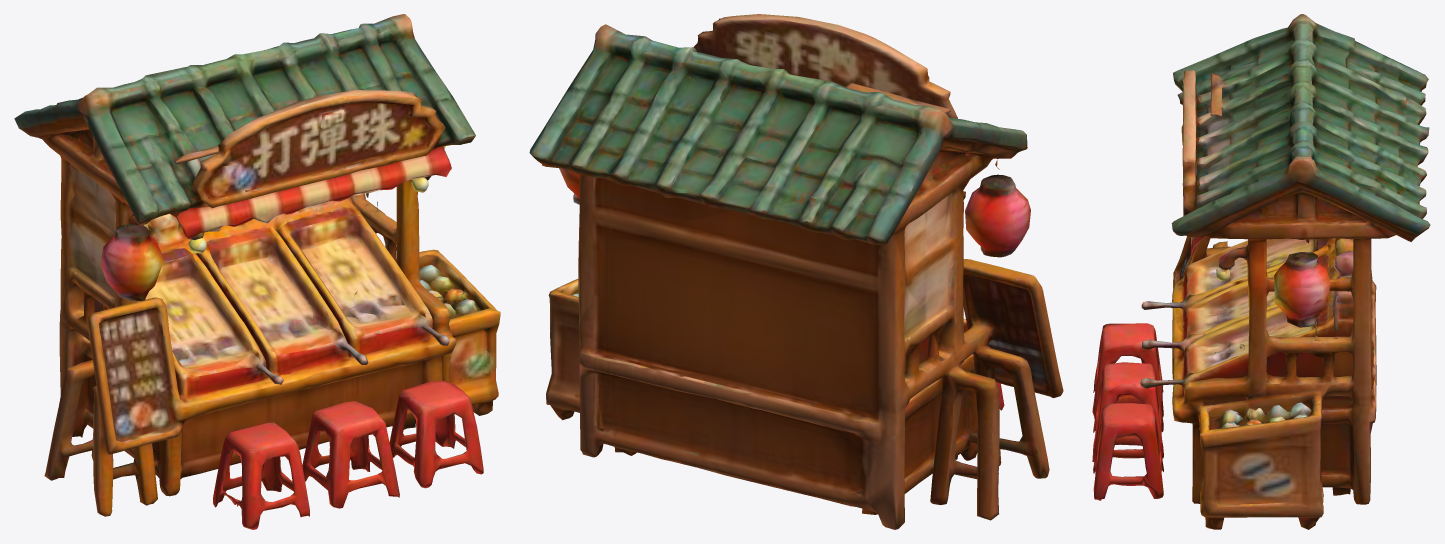
The model's file is stall-pachinko-lite.glb.
3 views of the same model, side by side, from view 1: azimuth 30°, elevation 25°; view 2: azimuth 150°, elevation 25°; view 3: azimuth 270°, elevation 25° (orthographic). The views are drawn at different scales.
Parts seen in each view (by area): view 1: tripo_node_6ee4b5d8-0822-4db2-b8ad-e27f1ab7f594; view 2: tripo_node_6ee4b5d8-0822-4db2-b8ad-e27f1ab7f594; view 3: tripo_node_6ee4b5d8-0822-4db2-b8ad-e27f1ab7f594.
Part boxes in pixels (<box>): tripo_node_6ee4b5d8-0822-4db2-b8ad-e27f1ab7f594: <box>14,14,500,529</box>; tripo_node_6ee4b5d8-0822-4db2-b8ad-e27f1ab7f594: <box>529,14,1063,529</box>; tripo_node_6ee4b5d8-0822-4db2-b8ad-e27f1ab7f594: <box>1092,14,1430,529</box>.
Size of the model in its own units: 0.9941 by 0.8767 by 0.7532.
1 material, 1 textured.
